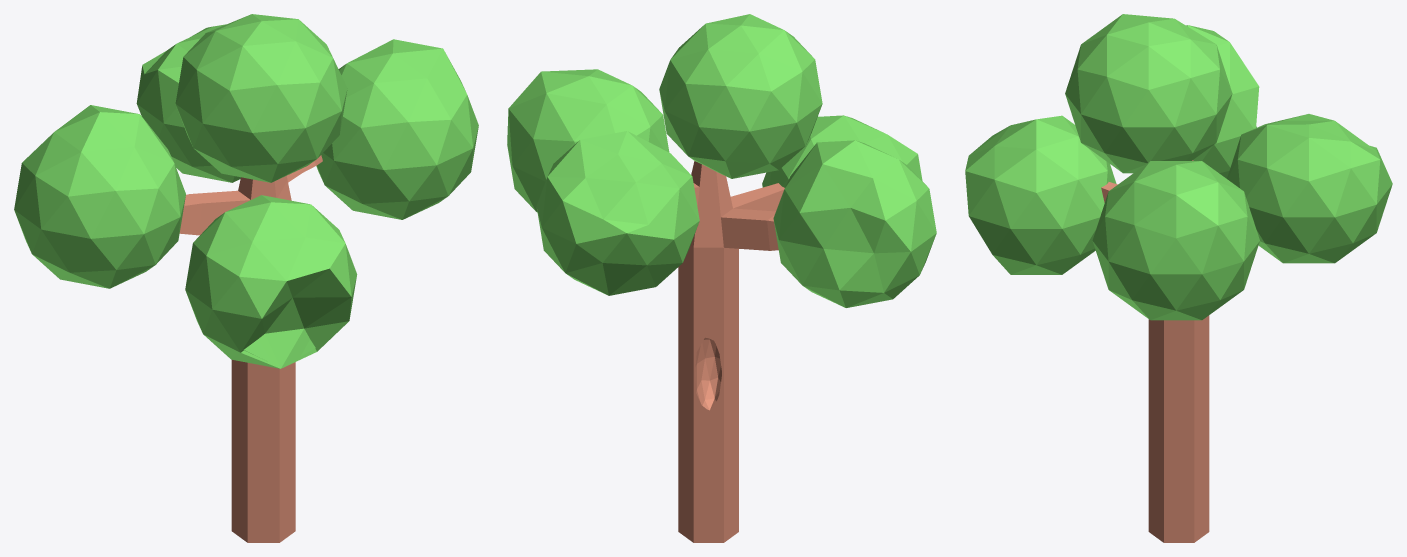
Rendered from holedTree.fbx.
The picture shows the model from 3 angles, left to right: view 1: azimuth 30°, elevation 25°; view 2: azimuth 150°, elevation 25°; view 3: azimuth 270°, elevation 25°; orthographic projection. The views are drawn at different scales.
Visible parts, largest first — view 1: Cylinder; view 2: Cylinder; view 3: Cylinder.
Boxes of the visible parts, x1,y1,x2,y2 form: Cylinder: [14, 14, 478, 542]; Cylinder: [507, 14, 936, 542]; Cylinder: [965, 14, 1392, 542].
Size of the model in its own units: 566 by 660 by 510.
